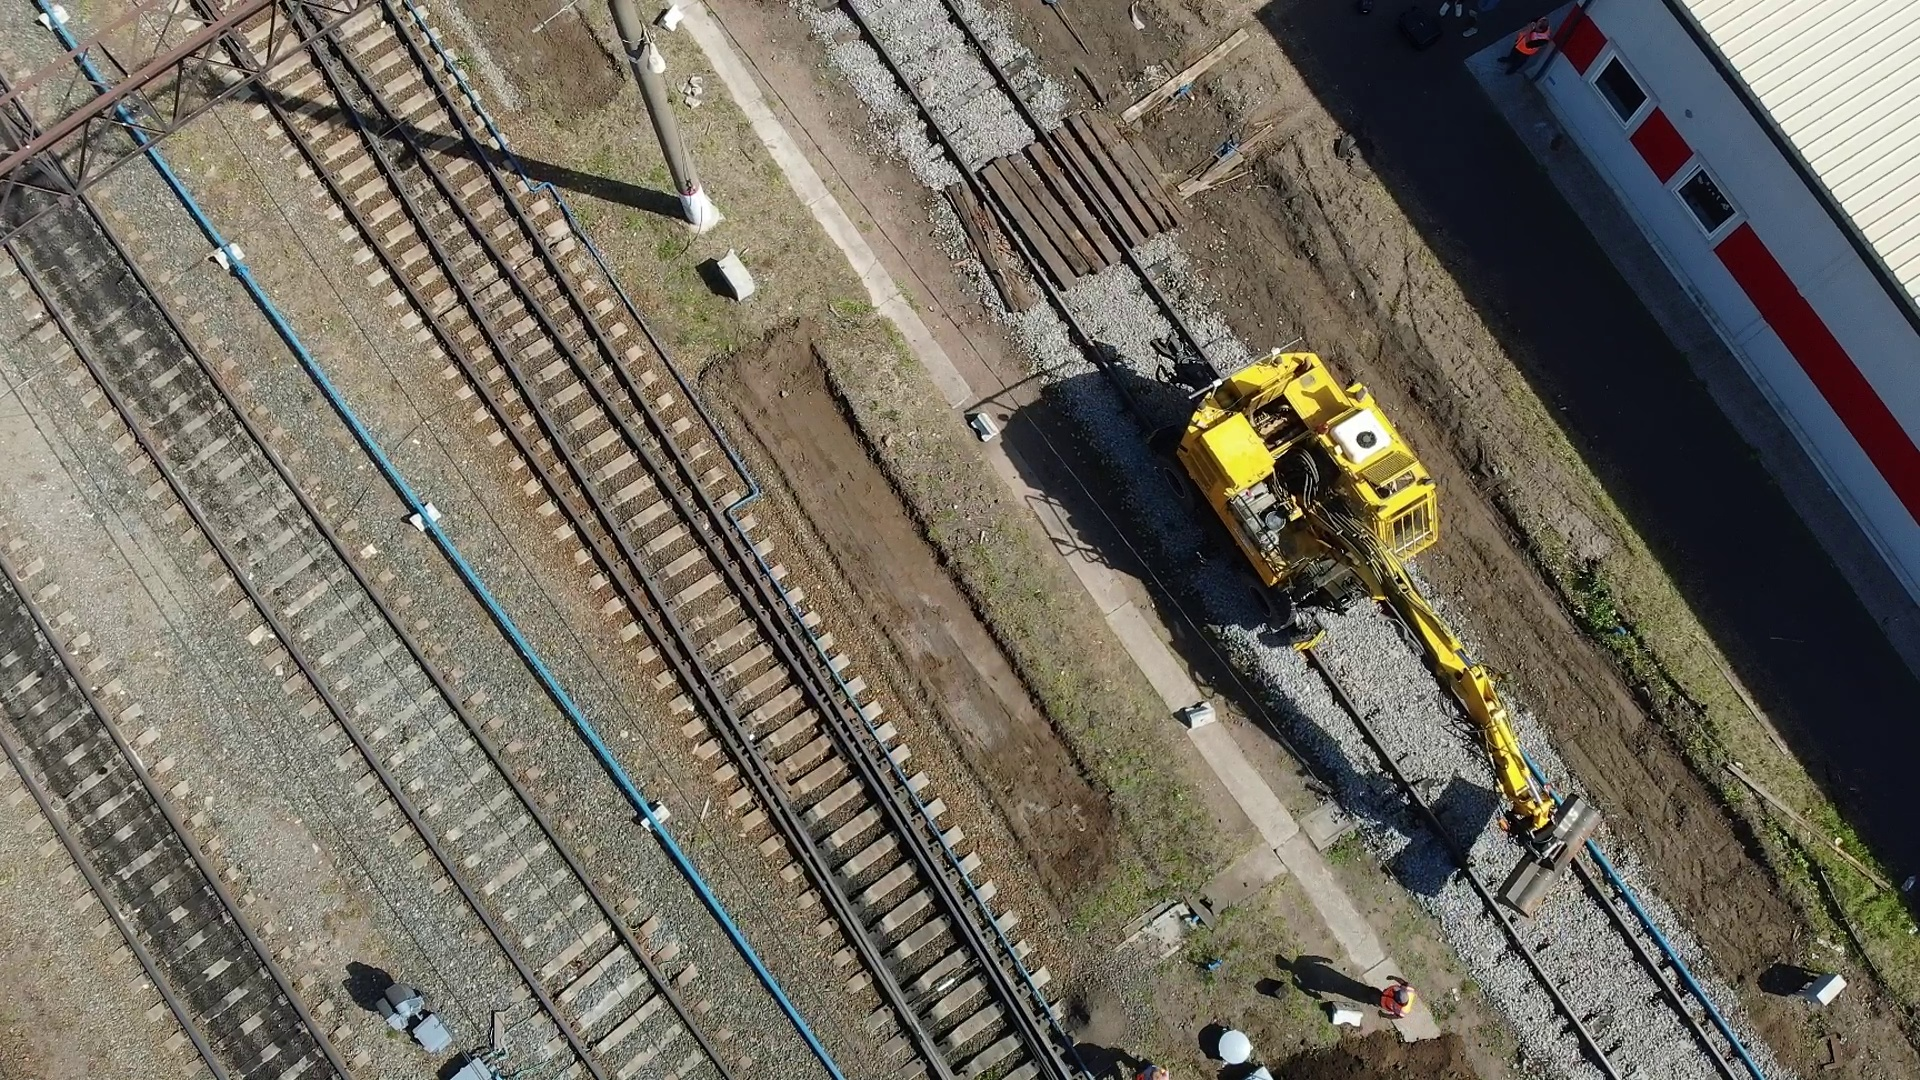kjtv: (1149, 328, 1480, 688)
